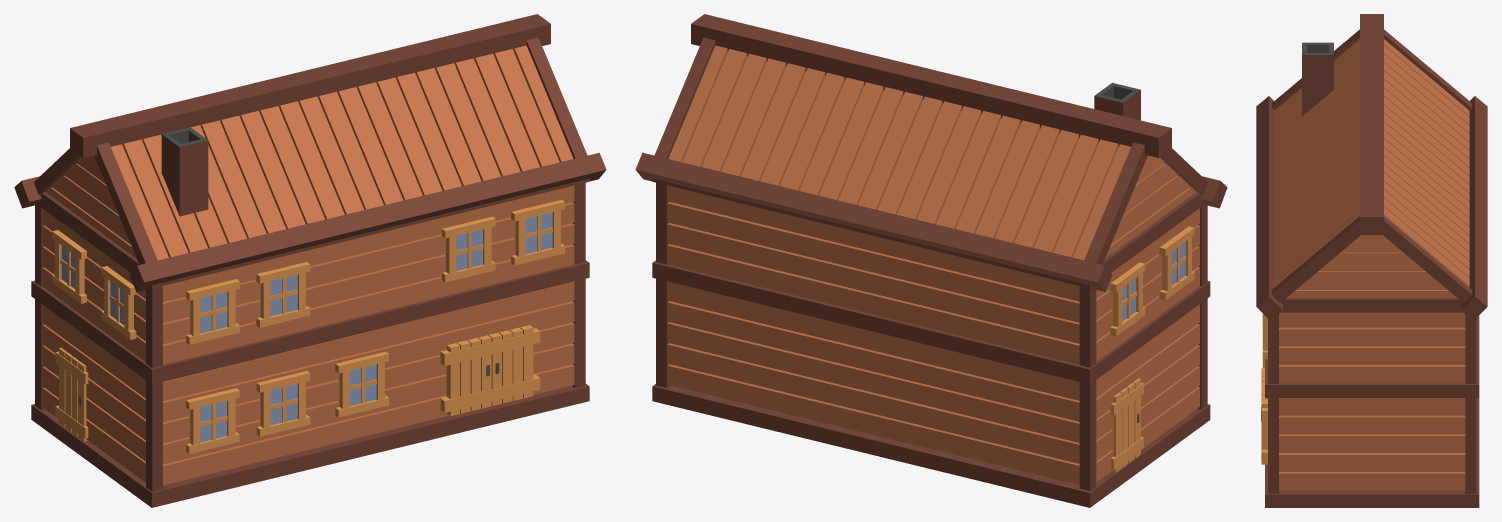
The model's file is Maktab.fbx.
The picture shows the model from 3 angles, left to right: view 1: azimuth 30°, elevation 25°; view 2: azimuth 150°, elevation 25°; view 3: azimuth 270°, elevation 25°; orthographic projection. The views are drawn at different scales.
Visible parts, largest first — view 1: Cube.034, Wooden wall.003, Wooden wall.006, Cube.035, Cube.001, Cube, Wooden wall, Cube.024, Cube.032, Cube.016, Wooden wall.004, Cube.010 (+17 smaller); view 2: Cube.034, Wooden wall.001, Wooden wall.006, Cube.035, Cube.001, Wooden wall, Cube, Cube.032, Wooden wall.004, Cube.010, Cube.004, Cube.030 (+2 smaller); view 3: Cube.034, Wooden wall.002, Wooden wall.006, Wooden wall.004, Cube.035, Cube.001, Cube, Cube.032, Cube.016, Wooden wall.001, Cube.024, Plane.001.
Boxes of the visible parts, x1=… form: Cube.034: x1=14, y1=37, x2=606, y2=291; Wooden wall.003: x1=146, y1=281, x2=574, y2=491; Wooden wall.006: x1=35, y1=183, x2=585, y2=368; Cube.035: x1=70, y1=14, x2=550, y2=157; Cube.001: x1=31, y1=384, x2=589, y2=507; Cube: x1=31, y1=260, x2=589, y2=384; Wooden wall: x1=35, y1=299, x2=145, y2=482; Cube.024: x1=440, y1=325, x2=540, y2=416; Cube.032: x1=36, y1=178, x2=589, y2=288; Cube.016: x1=161, y1=127, x2=208, y2=216; Wooden wall.004: x1=46, y1=155, x2=136, y2=258; Cube.010: x1=55, y1=347, x2=89, y2=441; Cube.034: x1=635, y1=37, x2=1227, y2=291; Wooden wall.001: x1=656, y1=278, x2=1079, y2=484; Wooden wall.006: x1=656, y1=182, x2=1207, y2=367; Cube.035: x1=691, y1=14, x2=1171, y2=157; Cube.001: x1=652, y1=384, x2=1210, y2=507; Wooden wall: x1=1079, y1=304, x2=1199, y2=490; Cube: x1=652, y1=260, x2=1210, y2=384; Cube.032: x1=652, y1=178, x2=1205, y2=288; Wooden wall.004: x1=1105, y1=155, x2=1195, y2=258; Cube.010: x1=1109, y1=378, x2=1143, y2=472; Cube.004: x1=1109, y1=262, x2=1145, y2=336; Cube.030: x1=1158, y1=226, x2=1194, y2=300; Cube.034: x1=1256, y1=29, x2=1487, y2=320; Wooden wall.002: x1=1268, y1=398, x2=1465, y2=493; Wooden wall.006: x1=1268, y1=312, x2=1476, y2=383; Wooden wall.004: x1=1287, y1=235, x2=1456, y2=297; Cube.035: x1=1360, y1=14, x2=1383, y2=234; Cube.001: x1=1265, y1=398, x2=1479, y2=507; Cube: x1=1265, y1=315, x2=1479, y2=398; Cube.032: x1=1280, y1=298, x2=1463, y2=312; Cube.016: x1=1302, y1=42, x2=1333, y2=116; Wooden wall.001: x1=1465, y1=398, x2=1476, y2=493; Cube.024: x1=1261, y1=368, x2=1267, y2=464; Plane.001: x1=1296, y1=251, x2=1447, y2=289.
Bounding box in the file's own units: 5112 × 3495 × 2460.
